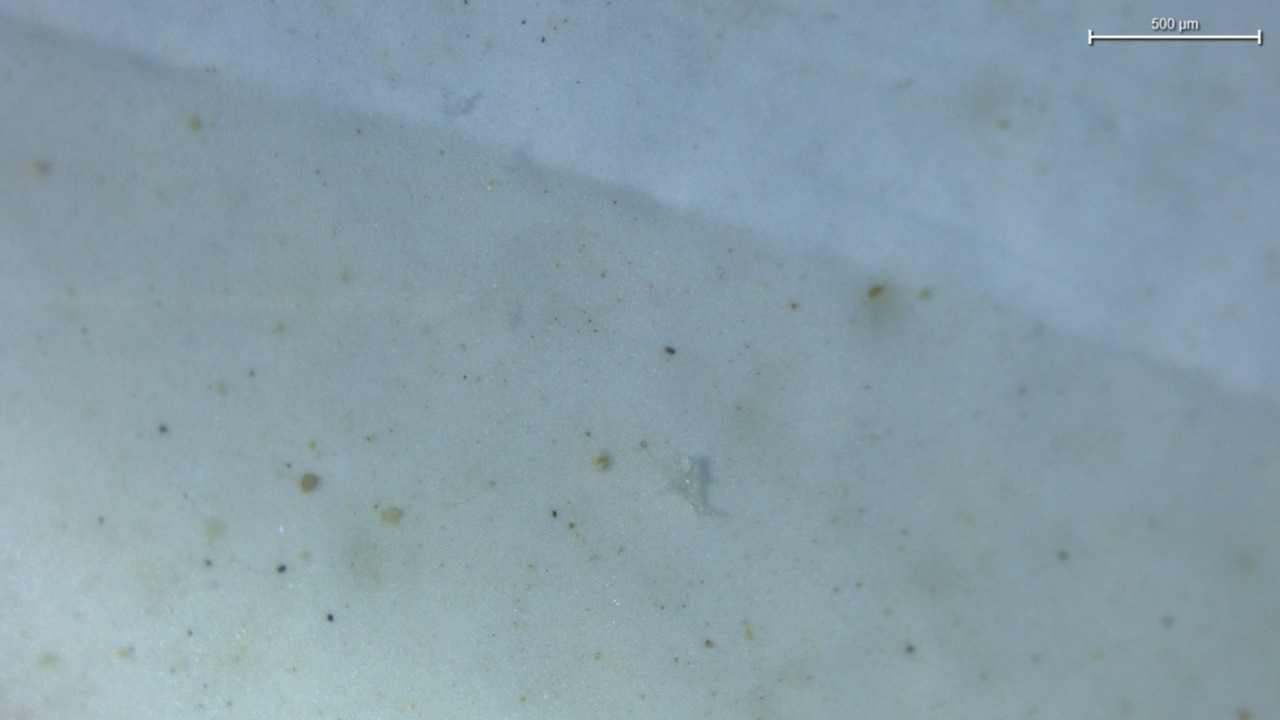microplastic_fragment: (671, 456, 720, 514)
